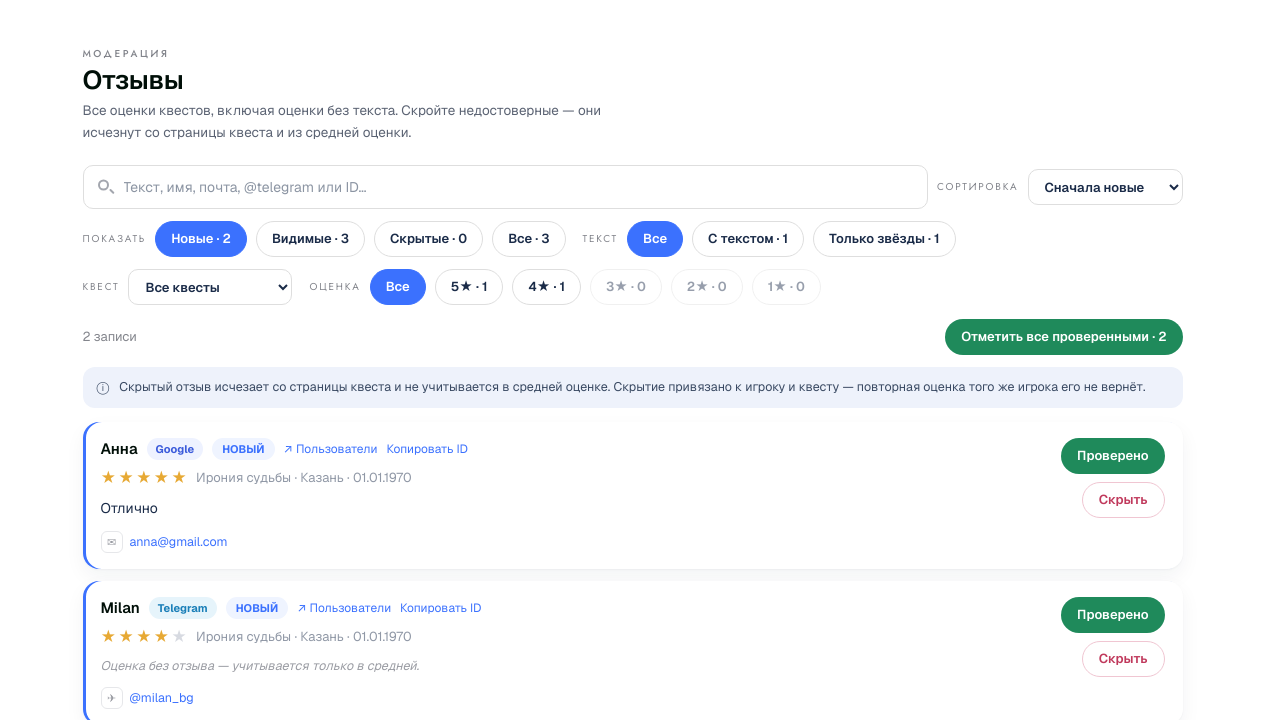
AdminReviewsPage «Проверено» › marks the whole «Новые» list checked after a confirm
Expected: the text "Отлично" is shown, 100,499 -> 158,517
Click the button "Отметить все проверенными · 2" at {"x": 1064, "y": 337}, box 945,319 -> 1182,355
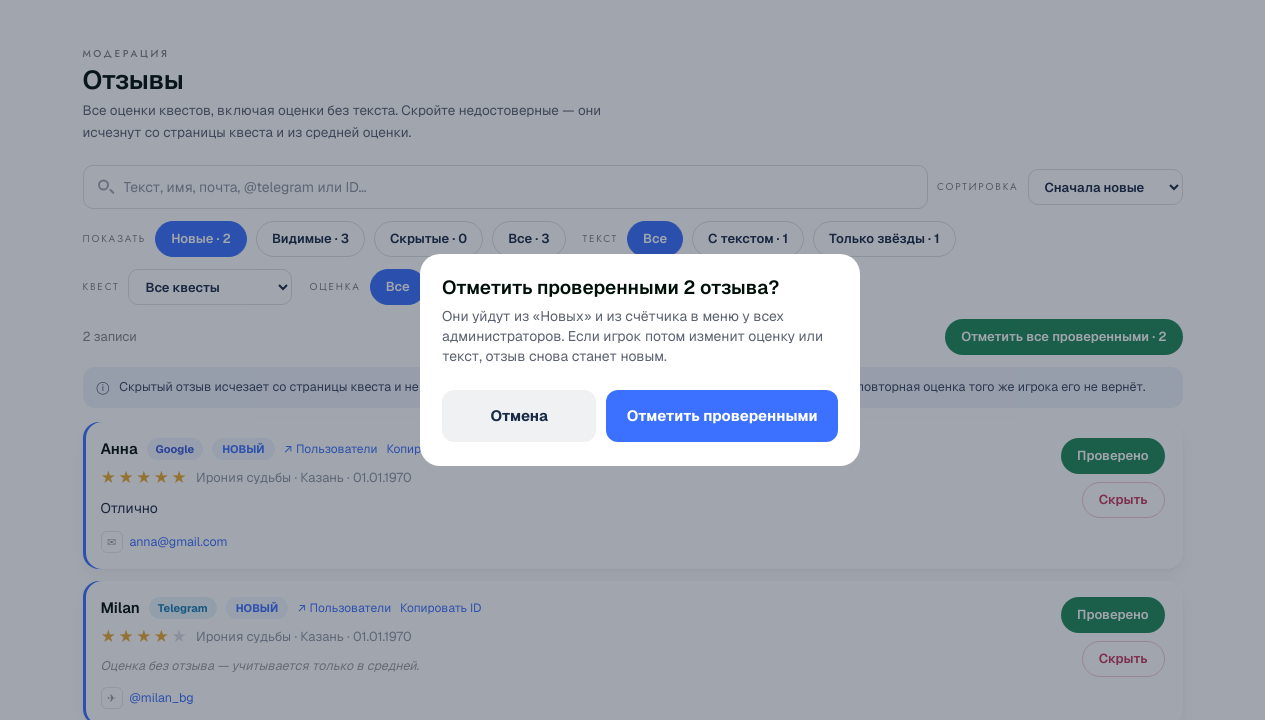
Now the text "Отметить проверенными 2 отзыва?" is shown, box 442,278 -> 838,298
Click the button "Отметить проверенными" at {"x": 722, "y": 416}, box 606,390 -> 838,442
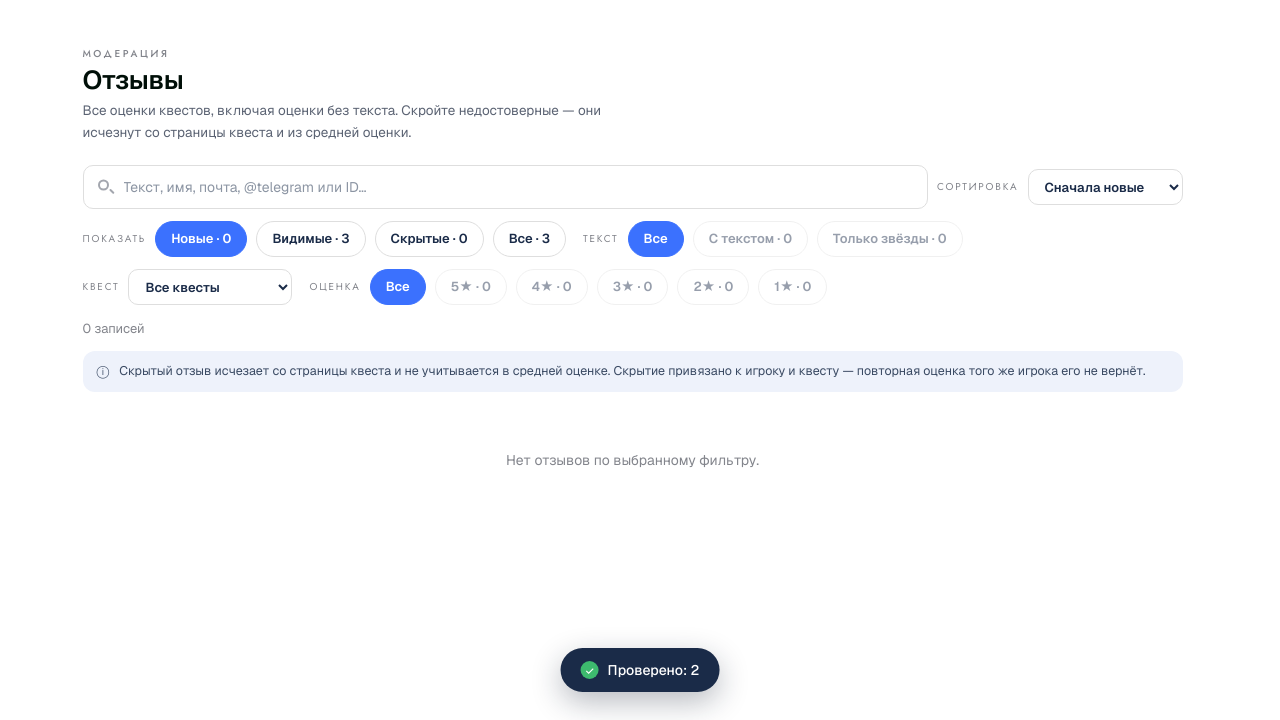
Now no elements with class "amod-card" are shown
Now the button "Новые · 0" is shown, box 155,221 -> 247,257
